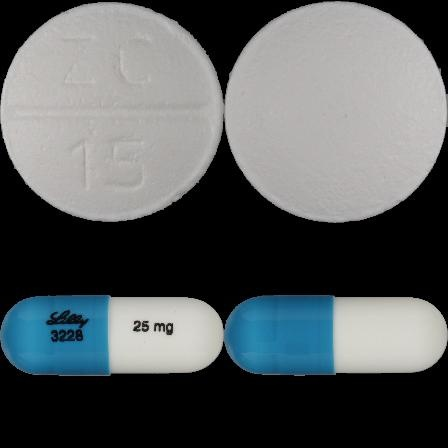49999-631: (0, 0, 224, 224)
